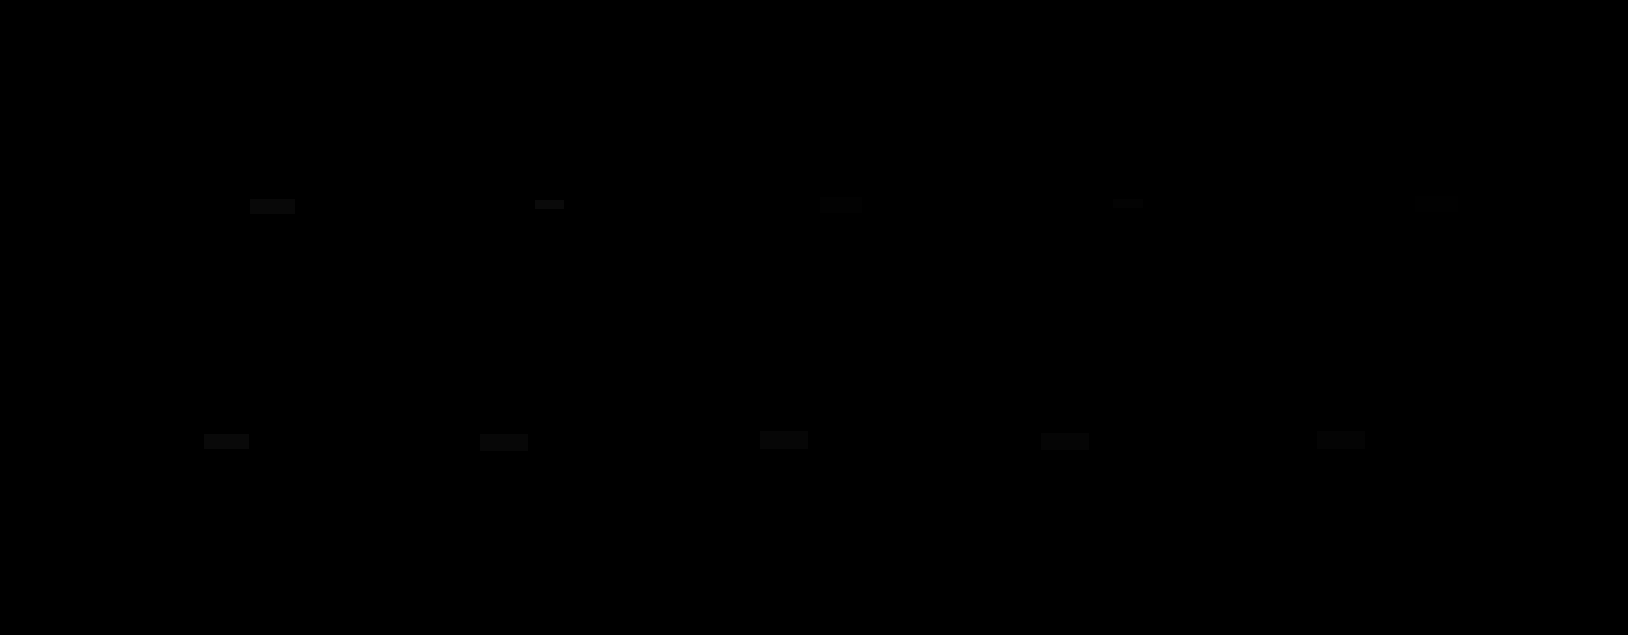light: (1317, 431, 1365, 449), (760, 431, 808, 449), (480, 434, 528, 451), (1041, 433, 1089, 450), (203, 434, 249, 449), (1415, 196, 1458, 212), (250, 199, 295, 214), (820, 197, 862, 213), (1113, 199, 1143, 208), (535, 200, 564, 209)
